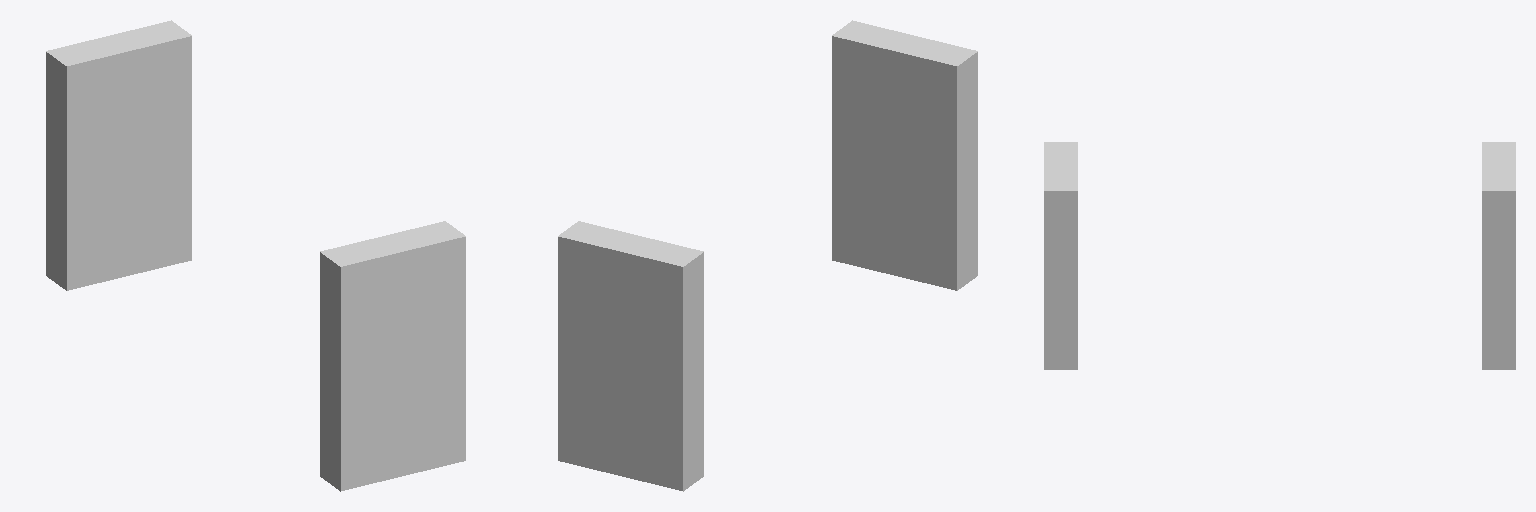
robot.urdf — xarm6:
<?xml version="1.0" encoding="utf-8"?>

<robot name="xarm6">
  <link name="world"/>
  <joint name="world_joint" type="fixed">
    <parent link="world"/>
    <child link="link_base"/>
    <origin rpy="0 0 0" xyz="0 0 0"/>
  </joint>
 
  <material name="Black">
    <color rgba="0.0 0.0 0.0 1.0"/>
  </material>
  <material name="Red">
    <color rgba="0.8 0.0 0.0 1.0"/>
  </material>
  <material name="White">
    <color rgba="1.0 1.0 1.0 1.0"/>
  </material>
  <material name="Silver">
    <color rgba="0.753 0.753 0.753 1.0"/>
  </material>
  <material name="MaterialFromMTL">
    <color rgba="0.8 0.8 0.8 1.0"/>
    <specular rgb="0.8 0.8 0.8"/>
    <ambient rgb="0.8 0.8 0.8"/>
    <diffuse rgb="0.8 0.8 0.8"/>
  </material>
  <material name="MaterialFromMTL2">
    <color rgba="0.8 0.8 0.8 1.0"/>
    <specular rgb="0.5 0.5 0.5"/>
    <ambient rgb="1.0 1.0 1.0"/>
    <diffuse rgb="0.8 0.8 0.8"/>
  </material>
  
  <link name="link_base">
    <visual>
      <geometry>
        <mesh filename="visual/base.stl"/>
      </geometry>
      <origin rpy="0 0 0" xyz="0 0 0"/>
      <material name="MaterialFromMTL"/>
    </visual>
    <collision>
      <geometry>
        <mesh filename="collision/base_vhacd.obj"/>
      </geometry>
      <origin rpy="0 0 0" xyz="0 0 0"/>
    </collision>
    <inertial>
      <origin rpy="0 0 0" xyz="0.0 0.0 0.09103"/>
      <mass value="2.7"/>
      <inertia ixx="0.00494875" ixy="-3.5E-06" ixz="1.25E-05" iyy="0.00494174" iyz="1.67E-06" izz="0.002219"/>
    </inertial>
  </link>
 
  <link name="link1">
    <visual>
      <geometry>
        <mesh filename="visual/link1.stl"/>
      </geometry>
      <origin rpy="0 0 0" xyz="0 0 0"/>
      <material name="MaterialFromMTL"/>
    </visual>
    <collision>
      <geometry>
        <mesh filename="collision/link1_vhacd.obj"/>
      </geometry>
      <origin rpy="0 0 0" xyz="0 0 0"/>
    </collision>
    <inertial>
      <origin rpy="0 0 0" xyz="-0.002 0.02692 -0.01332"/>
      <mass value="2.16"/>
      <inertia ixx="0.00539427" ixy="1.095E-05" ixz="1.635E-06" iyy="0.0048979" iyz="0.000793" izz="0.00311573"/>
    </inertial>
  </link>

  <joint name="joint1" type="revolute">
    <safety_controller k_position="100.0" k_velocity="40.0" soft_lower_limit="-6.28318530718" soft_upper_limit="6.28318530718"/>
    <parent link="link_base"/>
    <child link="link1"/>
    <origin rpy="0 0 0" xyz="0 0 0.267"/>
    <axis xyz="0 0 1"/>
    <limit effort="50.0" lower="-6.28318530718" upper="6.28318530718" velocity="3.14"/>
    <dynamics damping="1.0" friction="1.0"/>
  </joint>
  
  <link name="link2">
    <visual>
      <geometry>
        <mesh filename="visual/link2.stl"/>
      </geometry>
      <origin rpy="0 0 0" xyz="0 0 0"/>
      <material name="MaterialFromMTL"/>
    </visual>
    <collision>
      <geometry>
        <mesh filename="collision/link2_vhacd2.obj"/>
      </geometry>
      <origin rpy="0 0 0" xyz="0 0 0"/>
    </collision>
    <inertial>
      <origin rpy="0 0 0" xyz="0.03531 -0.21398 0.03386"/>
      <mass value="1.71"/>
      <inertia ixx="0.0248674" ixy="-0.00430651" ixz="-0.00067797" iyy="0.00485548" iyz="0.00457245" izz="0.02387827"/>
    </inertial>
  </link>
  
  <joint name="joint2" type="revolute">
    <safety_controller k_position="100.0" k_velocity="40.0" soft_lower_limit="-2.059" soft_upper_limit="2.059"/>
    <parent link="link1"/>
    <child link="link2"/>
    <origin rpy="-1.5708 0 0" xyz="0 0 0"/>
    <axis xyz="0 0 1"/>
    <limit effort="50.0" lower="-2.059" upper="2.0944" velocity="3.14"/>
    <dynamics damping="1.0" friction="1.0"/>
  </joint>
  
  <link name="link3">
    <visual>
      <geometry>
        <mesh filename="visual/link3.stl"/>
      </geometry>
      <origin rpy="0 0 0" xyz="0 0 0"/>
      <material name="MaterialFromMTL"/>
    </visual>
    <collision>
      <geometry>
        <mesh filename="collision/link3_vhacd.obj"/>
      </geometry>
      <origin rpy="0 0 0" xyz="0 0 0"/>
    </collision>
    <inertial>
      <origin rpy="0 0 0" xyz="0.06781 0.10749 0.01457"/>
      <mass value="1.384"/>
      <inertia ixx="0.0053694" ixy="0.0014185" ixz="-0.00092094" iyy="0.0032423" iyz="-0.00169178" izz="0.00501731"/>
    </inertial>
  </link>
  
  <joint name="joint3" type="revolute">
    <safety_controller k_position="100.0" k_velocity="40.0" soft_lower_limit="-3.8" soft_upper_limit="0.19198"/>
    <parent link="link2"/>
    <child link="link3"/>
    <origin rpy="0 0 0" xyz="0.0535 -0.2845 0"/>
    <axis xyz="0 0 1"/>
    <limit effort="32.0" lower="-3.8" upper="0.19198" velocity="3.14"/>
    <dynamics damping="1.0" friction="1.0"/>
  </joint>
  
  <link name="link4">
    <visual>
      <geometry>
        <mesh filename="visual/link4.stl"/>
      </geometry>
      <origin rpy="0 0 0" xyz="0 0 0"/>
      <material name="MaterialFromMTL"/>
    </visual>
    <collision>
      <geometry>
        <mesh filename="collision/link4_vhacd.obj"/>
      </geometry>
      <origin rpy="0 0 0" xyz="0 0 0"/>
    </collision>
    <inertial>
      <origin rpy="0 0 0" xyz="-0.00021 0.02578 -0.02538"/>
      <mass value="1.115"/>
      <inertia ixx="0.00439263" ixy="5.028E-05" ixz="1.374E-05" iyy="0.0040077" iyz="0.00045338" izz="0.00110321"/>
    </inertial>
  </link>
  
  <joint name="joint4" type="revolute">
    <safety_controller k_position="100.0" k_velocity="40.0" soft_lower_limit="-6.28318530718" soft_upper_limit="6.28318530718"/>
    <parent link="link3"/>
    <child link="link4"/>
    <origin rpy="-1.5708 0 0" xyz="0.0775 0.3425 0"/>
    <axis xyz="0 0 1"/>
    <limit effort="32.0" lower="-6.28318530718" upper="6.28318530718" velocity="3.14"/>
    <dynamics damping="1.0" friction="1.0"/>
  </joint>
  
  <link name="link5">
    <visual>
      <geometry>
        <mesh filename="visual/link5.stl"/>
      </geometry>
      <origin rpy="0 0 0" xyz="0 0 0"/>
      <material name="MaterialFromMTL"/>
    </visual>
    <collision>
      <geometry>
        <mesh filename="collision/link5_vhacd.obj"/>
      </geometry>
      <origin rpy="0 0 0" xyz="0 0 0"/>
    </collision>
    <inertial>
      <origin rpy="0 0 0" xyz="0.05428 0.01781 0.00543"/>
      <mass value="1.275"/>
      <inertia ixx="0.001202758" ixy="0.000492428" ixz="-0.00039147" iyy="0.0022876" iyz="-1.235E-04" izz="0.0026866"/>
    </inertial>
  </link>
  
  <joint name="joint5" type="revolute">
    <safety_controller k_position="100.0" k_velocity="40.0" soft_lower_limit="-1.69297" soft_upper_limit="3.14159265359"/>
    <parent link="link4"/>
    <child link="link5"/>
    <origin rpy="1.5708 0 0" xyz="0 0 0"/>
    <axis xyz="0 0 1"/>
    <limit effort="32.0" lower="-1.69297" upper="3.14159265359" velocity="3.14"/>
    <dynamics damping="1.0" friction="1.0"/>
  </joint>
  
  <link name="link6">
    <visual>
      <geometry>
        <mesh filename="visual/link6.stl"/>
      </geometry>
      <origin rpy="0 0 0" xyz="0 0 0"/>
      <material name="Silver"/>
    </visual>
    <collision>
      <geometry>
        <mesh filename="visual/link6.stl"/>
      </geometry>
      <origin rpy="0 0 0" xyz="0 0 0"/>
    </collision>
    <inertial>
      <origin rpy="0 0 0" xyz="0 0.00064 -0.00952"/>
      <mass value="0.1096"/>
      <inertia ixx="4.5293E-05" ixy="0" ixz="0" iyy="4.8111E-05" iyz="0" izz="7.9715E-05"/>
    </inertial>
  </link>
  
  <joint name="joint6" type="revolute">
    <safety_controller k_position="100.0" k_velocity="40.0" soft_lower_limit="-6.28318530718" soft_upper_limit="6.28318530718"/>
    <parent link="link5"/>
    <child link="link6"/>
    <origin rpy="-1.5708 0 0" xyz="0.076 0.097 0"/>
    <axis xyz="0 0 1"/>
    <limit effort="20.0" lower="-6.28318530718" upper="6.28318530718" velocity="3.14"/>
    <dynamics damping="1.0" friction="1.0"/>
  </joint>
  
  <link name="camera_link" />
  <joint name="camera_link_joint" type="fixed">
    <parent link="link6"/>
    <child link="camera_link"/>
    <origin xyz="0.05 0 0" rpy="3.141592653589793 -0.0 1.5707963267948966"/>
  </joint>


  <joint name="gripper_fix" type="fixed">
    <parent link="link6"/>
    <child link="xarm_gripper_base_link"/>
    <origin rpy="0 0 0" xyz="0 0 0"/>
  </joint>
  
  <link name="xarm_gripper_base_link">
    <inertial>
      <origin rpy="0 0 0" xyz="-0.00065489 -0.0018497 0.048028"/>
      <mass value="0.54156"/>
      <inertia ixx="0.00047106" ixy="3.9292E-07" ixz="2.6537E-06" iyy="0.00033072" iyz="-1.0975E-05" izz="0.00025642"/>
    </inertial>
    <visual>
      <origin rpy="0 0 0" xyz="0 0 0"/>
      <geometry>
        <mesh filename="meshes_xarm_gripper/base_link.STL"/>
      </geometry>
      <material name="White">
        <color rgba="1.0 1.0 1.0 1.0"/>
      </material>
    </visual>
    <collision>
      <origin rpy="0 0 0" xyz="0 0 0"/>
      <geometry>
        <mesh filename="meshes_xarm_gripper/base_link_collision.STL"/>
      </geometry>
    </collision>
  </link>

  <link name="eef">
    <!-- <visual>
      <origin xyz="0 0 0" rpy="0 0 0"/>
      <geometry>
        <sphere radius="0.005"/>
      </geometry>
      <material name="red_transparent">
        <color rgba="1 0 0 0.5"/>
      </material>
    </visual> -->
  </link>

  <joint name="eef_joint" type="fixed">
    <parent link="xarm_gripper_base_link"/>
    <child link="eef"/>
    <origin xyz="0 0 0.172" rpy="0 0 0"/>
  </joint>

  <link name="left_outer_knuckle">
    <inertial>
      <origin rpy="0 0 0" xyz="2.9948E-14 0.021559 0.015181"/>
      <mass value="0.033618"/>
      <inertia ixx="1.9111E-05" ixy="-1.8803E-17" ixz="-1.1002E-17" iyy="6.6256E-06" iyz="-7.3008E-06" izz="1.3185E-05"/>
    </inertial>
    <visual>
      <origin rpy="0 0 0" xyz="0 0 0"/>
      <geometry>
        <mesh filename="meshes_xarm_gripper/left_outer_knuckle.STL"/>
      </geometry>
      <material name="Silver">
        <color rgba="0.753 0.753 0.753 1.0"/>
      </material>
    </visual>
    <collision>
      <origin rpy="0 0 0" xyz="0 0 0"/>
      <geometry>
        <mesh filename="meshes_xarm_gripper/left_outer_knuckle.STL"/>
      </geometry>
    </collision>
  </link>
 
  <joint name="left_outer_knuckle_joint" type="revolute">
    <origin rpy="0 0 0" xyz="0 0.035 0.059098"/>
    <parent link="xarm_gripper_base_link"/>
    <child link="left_outer_knuckle"/>
    <axis xyz="1 0 0"/>
    <limit effort="1000.0" lower="0" upper="0.85" velocity="2"/>
  </joint>
  
  <link name="left_finger">
    <inertial>
      <origin rpy="0 0 0" xyz="-2.4536E-14 -0.016413 0.029258"/>
      <mass value="0.048304"/>
      <inertia ixx="1.7493E-05" ixy="-4.2156E-19" ixz="6.9164E-18" iyy="1.7225E-05" iyz="4.6433E-06" izz="5.1466E-06"/>
    </inertial>
    <visual>
      <origin rpy="0 0 0" xyz="0 0 0"/>
      <geometry>
        <mesh filename="meshes_xarm_gripper/left_finger.STL"/>
      </geometry>
      <material name="Silver">
        <color rgba="0.753 0.753 0.753 1.0"/>
      </material>
    </visual>
    <collision>
      <origin rpy="0 0 0" xyz="0 0 0"/>
      <geometry>
        <mesh filename="meshes_xarm_gripper/left_finger.STL"/>
      </geometry>
    </collision>
  </link>
 
  <joint name="left_finger_joint" type="revolute">
    <origin rpy="0 0 0" xyz="0 0.035465 0.042039"/>
    <parent link="left_outer_knuckle"/>
    <child link="left_finger"/>
    <axis xyz="-1 0 0"/>
    <limit effort="1000.0" lower="0" upper="0.85" velocity="2"/>
  </joint>
 
  <link name="left_inner_knuckle">
    <inertial>
      <origin rpy="0 0 0" xyz="1.86600784687907E-06 0.0220467847633621 0.0261334672830885"/>
      <mass value="0.0230125781256706"/>
      <inertia ixx="6.09490024271906E-06" ixy="6.06651326160071E-11" ixz="7.19102670500635E-11" iyy="6.01955084375188E-06" iyz="-2.75316812991721E-06" izz="5.07862004479903E-06"/>
    </inertial>
    <visual>
      <origin rpy="0 0 0" xyz="0 0 0"/>
      <geometry>
        <mesh filename="meshes_xarm_gripper/left_inner_knuckle.STL"/>
      </geometry>
      <material name="Silver">
        <color rgba="0.753 0.753 0.753 1.0"/>
      </material>
    </visual>
    <collision>
      <origin rpy="0 0 0" xyz="0 0 0"/>
      <geometry>
        <mesh filename="meshes_xarm_gripper/left_inner_knuckle.STL"/>
      </geometry>
    </collision>
  </link>
  
  <joint name="left_inner_knuckle_joint" type="revolute">
    <origin rpy="0 0 0" xyz="0 0.02 0.074098"/>
    <parent link="xarm_gripper_base_link"/>
    <child link="left_inner_knuckle"/>
    <axis xyz="1 0 0"/>
    <limit effort="1000.0" lower="0" upper="0.85" velocity="2"/>
  </joint>

  <link name="left_finger_pad">
    <visual>
      <origin rpy="0 0 0" xyz="0 0 0"/>
      <geometry>
        <box size="0.022 0.00635 0.0375"/>
      </geometry>
      <material name="white">
        <color rgba="0.9 0.9 0.9 1"/>
      </material>
    </visual>
    <collision>
      <origin rpy="0 0 0" xyz="0 0 0"/>
      <geometry>
        <box size="0.022 0.00635 0.0375"/>
      </geometry>
    </collision>
  </link>
 
   <joint name="left_finger_pad_joint" type="fixed">
    <origin rpy="0 0 0" xyz="0 -0.029 0.042"/>
    <parent link="left_finger"/>
    <child link="left_finger_pad"/>
    <axis xyz="0 0 1"/>
  </joint>

  <link name="right_outer_knuckle">
    <inertial>
      <origin rpy="0 0 0" xyz="-3.1669E-14 -0.021559 0.015181"/>
      <mass value="0.033618"/>
      <inertia ixx="1.9111E-05" ixy="-1.8789E-17" ixz="1.0986E-17" iyy="6.6256E-06" iyz="7.3008E-06" izz="1.3185E-05"/>
    </inertial>
    <visual>
      <origin rpy="0 0 0" xyz="0 0 0"/>
      <geometry>
        <mesh filename="meshes_xarm_gripper/right_outer_knuckle.STL"/>
      </geometry>
      <material name="Silver">
        <color rgba="0.753 0.753 0.753 1.0"/>
      </material>
    </visual>
    <collision>
      <origin rpy="0 0 0" xyz="0 0 0"/>
      <geometry>
        <mesh filename="meshes_xarm_gripper/right_outer_knuckle.STL"/>
      </geometry>
    </collision>
  </link>
 
  <joint name="right_outer_knuckle_joint" type="revolute">
    <origin rpy="0 0 0" xyz="0 -0.035 0.059098"/>
    <parent link="xarm_gripper_base_link"/>
    <child link="right_outer_knuckle"/>
    <axis xyz="-1 0 0"/>
    <limit effort="1000.0" lower="0" upper="0.85" velocity="2"/>
  </joint>
 
  <link name="right_finger">
    <inertial>
      <origin rpy="0 0 0" xyz="2.5618E-14 0.016413 0.029258"/>
      <mass value="0.048304"/>
      <inertia ixx="1.7493E-05" ixy="-5.0014E-19" ixz="-7.5079E-18" iyy="1.7225E-05" iyz="-4.6435E-06" izz="5.1466E-06"/>
    </inertial>
    <visual>
      <origin rpy="0 0 0" xyz="0 0 0"/>
      <geometry>
        <mesh filename="meshes_xarm_gripper/right_finger.STL"/>
      </geometry>
      <material name="Silver">
        <color rgba="0.753 0.753 0.753 1.0"/>
      </material>
    </visual>
    <collision>
      <origin rpy="0 0 0" xyz="0 0 0"/>
      <geometry>
        <mesh filename="meshes_xarm_gripper/right_finger.STL"/>
      </geometry>
    </collision>
  </link>
 
  <joint name="right_finger_joint" type="revolute">
    <origin rpy="0 0 0" xyz="0 -0.035465 0.042039"/>
    <parent link="right_outer_knuckle"/>
    <child link="right_finger"/>
    <axis xyz="1 0 0"/>
    <limit effort="1000.0" lower="0" upper="0.85" velocity="2"/>
  </joint>
 
  <link name="right_inner_knuckle">
    <inertial>
      <origin rpy="0 0 0" xyz="1.866E-06 -0.022047 0.026133"/>
      <mass value="0.023013"/>
      <inertia ixx="6.0949E-06" ixy="-6.0665E-11" ixz="7.191E-11" iyy="6.0197E-06" iyz="2.7531E-06" izz="5.0784E-06"/>
    </inertial>
    <visual>
      <origin rpy="0 0 0" xyz="0 0 0"/>
      <geometry>
        <mesh filename="meshes_xarm_gripper/right_inner_knuckle.STL"/>
      </geometry>
      <material name="Silver">
        <color rgba="0.753 0.753 0.753 1.0"/>
      </material>
    </visual>
    <collision>
      <origin rpy="0 0 0" xyz="0 0 0"/>
      <geometry>
        <mesh filename="meshes_xarm_gripper/right_inner_knuckle.STL"/>
      </geometry>
    </collision>
  </link>
 
  <joint name="right_inner_knuckle_joint" type="revolute">
    <origin rpy="0 0 0" xyz="0 -0.02 0.074098"/>
    <parent link="xarm_gripper_base_link"/>
    <child link="right_inner_knuckle"/>
    <axis xyz="-1 0 0"/>
    <limit effort="1000.0" lower="0" upper="0.85" velocity="2"/>
  </joint>

  <link name="right_finger_pad">
    <visual>
      <origin rpy="0 0 0" xyz="0 0 0"/>
      <geometry>
        <box size="0.022 0.00635 0.0375"/>
      </geometry>
      <material name="white">
        <color rgba="0.9 0.9 0.9 1"/>
      </material>
    </visual>
    <collision>
      <origin rpy="0 0 0" xyz="0 0 0"/>
      <geometry>
        <box size="0.022 0.00635 0.0375"/>
      </geometry>
    </collision>
  </link>

  <joint name="right_finger_pad_joint" type="fixed">
    <origin rpy="0 0 0" xyz="0 0.029 0.042"/>
    <parent link="right_finger"/>
    <child link="right_finger_pad"/>
    <axis xyz="0 0 1"/>
  </joint>

</robot>

--- What the picture shows (computed from the rendered views, not written in the file) ---
Views: 3 orthographic renders of the robot side by side, from view 1: azimuth 30°, elevation 25°; view 2: azimuth 150°, elevation 25°; view 3: azimuth 270°, elevation 25°.
Robot: xarm6 — 19 links, 18 joints (12 revolute, 6 fixed); root link world; default pose: every joint at zero.
Links seen in each view (by area): view 1: left_finger_pad, right_finger_pad; view 2: left_finger_pad, right_finger_pad; view 3: left_finger_pad, right_finger_pad.
Link boxes in pixels (x1,y1,x2,y2): left_finger_pad: (320, 221, 465, 491); right_finger_pad: (46, 20, 191, 290); left_finger_pad: (832, 20, 977, 290); right_finger_pad: (558, 221, 703, 491); left_finger_pad: (1044, 142, 1077, 369); right_finger_pad: (1482, 142, 1515, 369).
Size in the robot's own frame: 0.022 by 0.0893 by 0.0375 metres.
Meshes: 14 distinct files referenced, 0 mesh visuals loaded (none loaded); not drawn: 14 (reference not matched to a file when rendering).